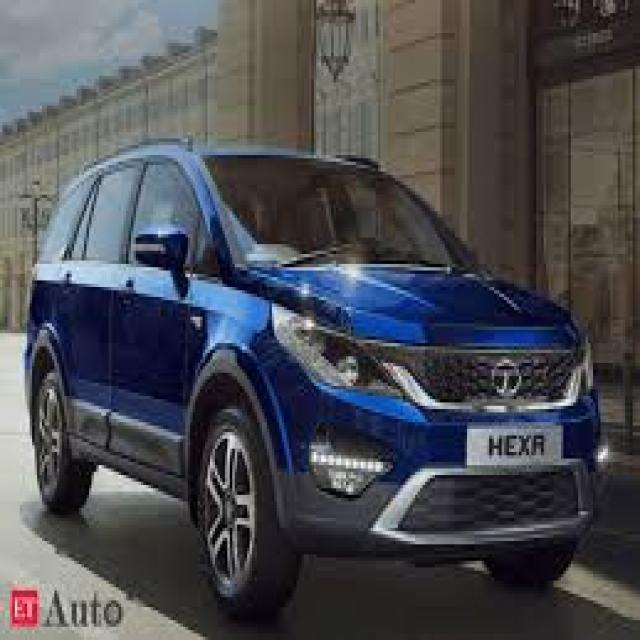car: (21, 127, 600, 624)
